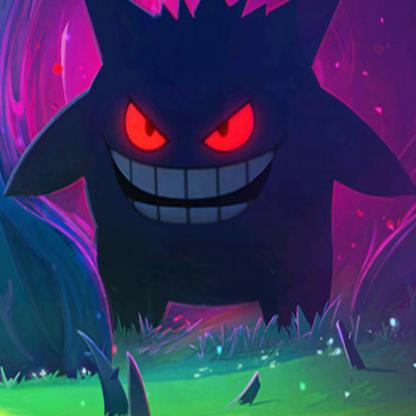Gengar: (15, 1, 416, 332)
